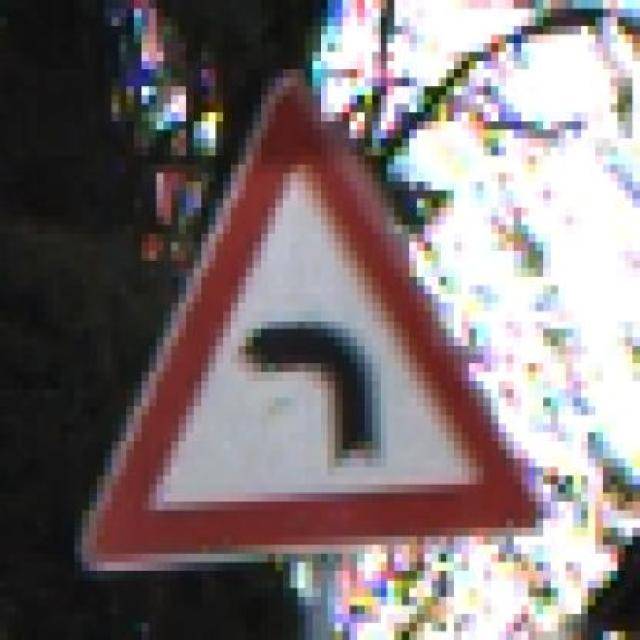Dangerous Left Curve Ahead: (59, 60, 581, 571)
